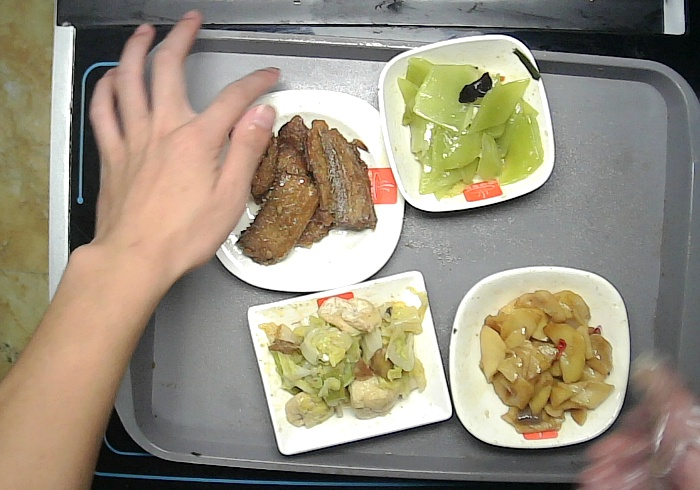SHKJ-Bai_Se_Cai_Die: (448, 266, 633, 452)
SHKJ-Bai_Se_Si_Fang_Cai_Die: (194, 88, 408, 292)
SHKJ-Bai_Se_Xiao_Fang_Die: (379, 33, 558, 215)
SHKJ-Si_Fang_Min: (246, 267, 453, 458)
